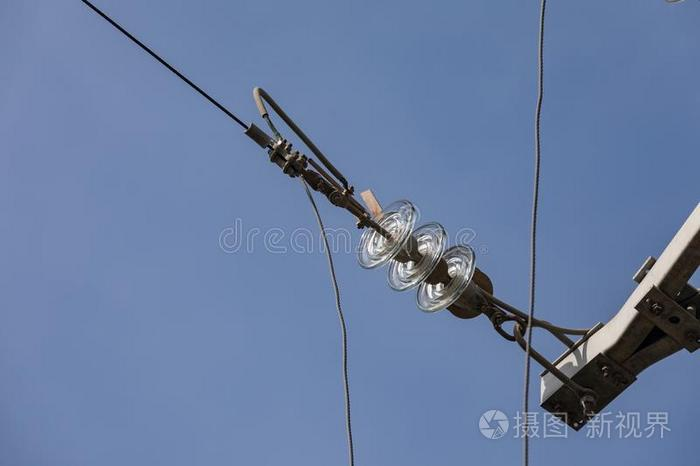insulator: (352, 199, 480, 316)
